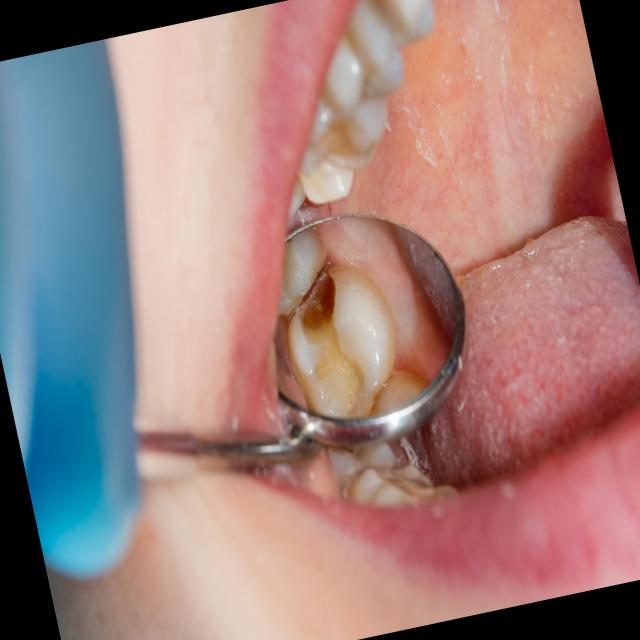Cavity: (298, 270, 365, 414)
Tooth: (287, 264, 396, 417)
